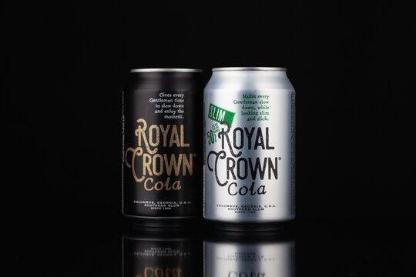Can: (202, 64, 298, 230), (120, 64, 206, 226)
